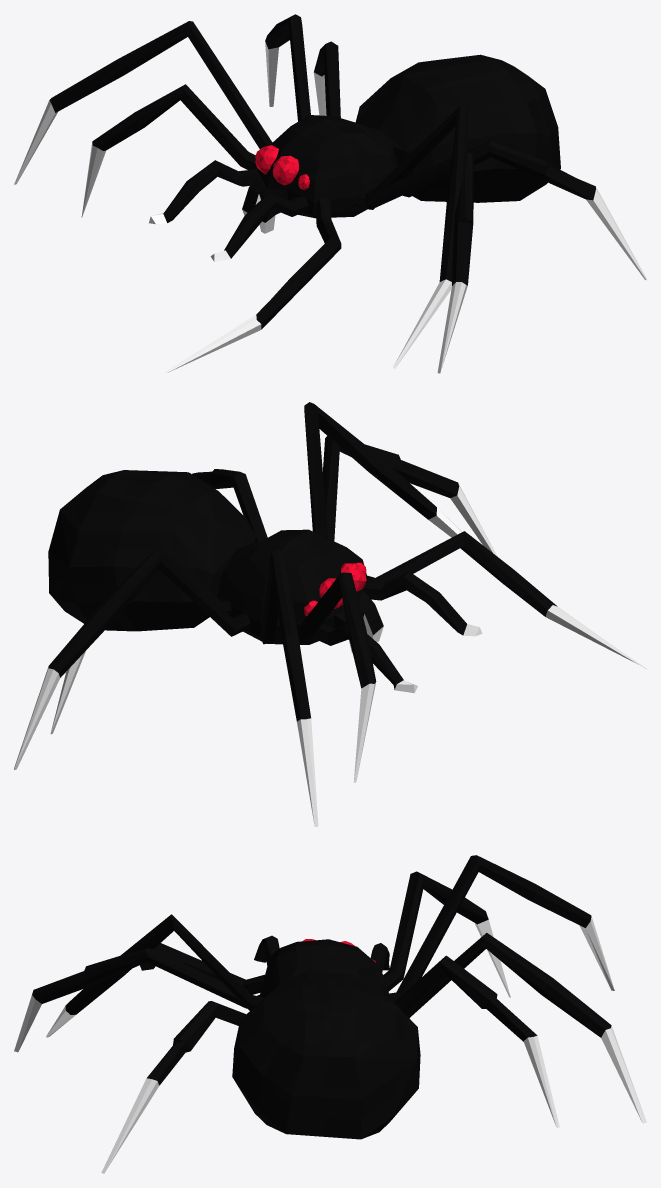
File: spiderWalking12.obj
The picture shows the model from 3 angles, top to bottom: view 1: azimuth 30°, elevation 25°; view 2: azimuth 150°, elevation 25°; view 3: azimuth 270°, elevation 25°; orthographic projection. The views are drawn at different scales.
Visible parts, largest first — view 1: Cube.001_Cube.002; view 2: Cube.001_Cube.002; view 3: Cube.001_Cube.002.
Part boxes in pixels (x1,y1,x2,y2): Cube.001_Cube.002: (14, 14, 646, 373); Cube.001_Cube.002: (14, 402, 646, 826); Cube.001_Cube.002: (14, 855, 646, 1173).
Bounding box in the file's own units: 29.27 × 11.31 × 34.6.
